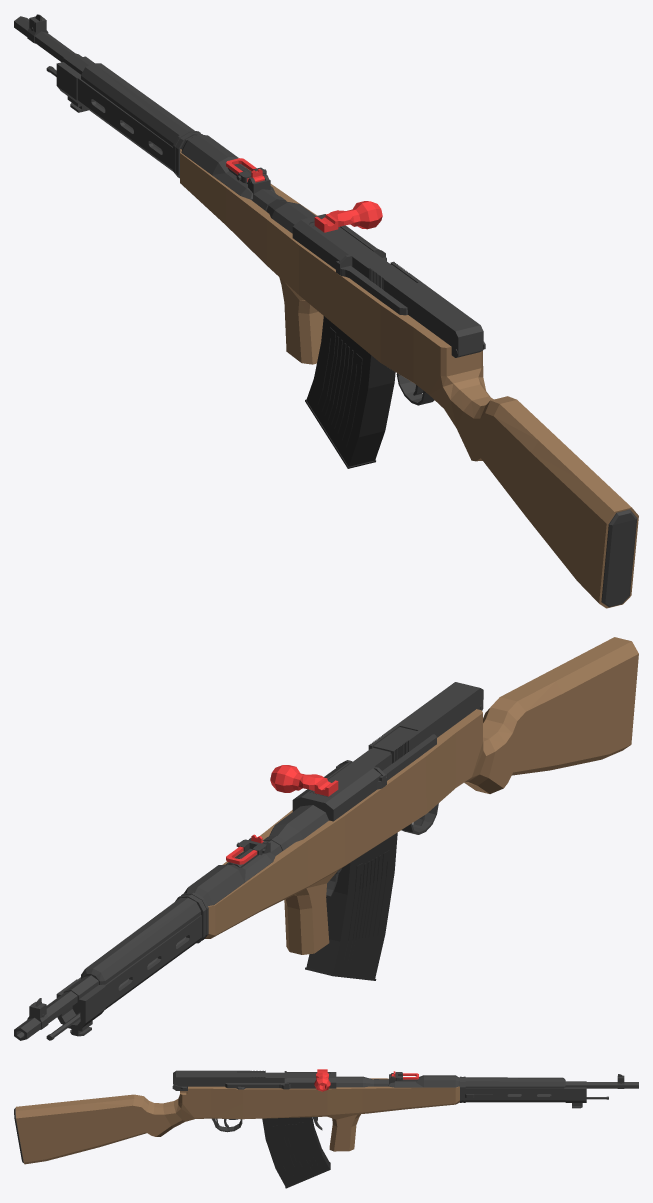
The model's file is fusil_5.glb.
3 views of the same model, one above another, from view 1: azimuth 30°, elevation 25°; view 2: azimuth 150°, elevation 25°; view 3: azimuth 270°, elevation 25° (orthographic). The views are drawn at different scales.
Visible parts, largest first — view 1: p11_accent, p47_mag, p8_paint, p35_paint, p46_paint, p7_paint, p21_paint, p24_del, p20_paint, p25_paint, p5_paint, p34_paint (+1 smaller); view 2: p11_accent, p47_mag, p8_paint, p35_paint, p7_paint, p21_paint, p20_paint, p5_paint, p24_del, p25_paint, p0_paint, p34_paint; view 3: p11_accent, p47_mag, p8_paint, p7_paint, p35_paint, p20_paint, p21_paint, p5_paint, p25_paint, p33_paint, p0_paint, p24_del.
Boxes of the visible parts, left/top/right/bottom form: p11_accent: left=180, top=149, right=638, bottom=608; p47_mag: left=305, top=316, right=395, bottom=468; p8_paint: left=81, top=63, right=275, bottom=200; p35_paint: left=368, top=261, right=483, bottom=357; p46_paint: left=601, top=509, right=637, bottom=607; p7_paint: left=77, top=77, right=172, bottom=171; p21_paint: left=292, top=214, right=375, bottom=269; p24_del: left=314, top=201, right=382, bottom=232; p20_paint: left=252, top=189, right=315, bottom=233; p25_paint: left=313, top=225, right=390, bottom=278; p5_paint: left=56, top=52, right=94, bottom=105; p34_paint: left=340, top=265, right=407, bottom=315; p11_accent: left=205, top=637, right=638, bottom=954; p47_mag: left=305, top=832, right=397, bottom=980; p8_paint: left=81, top=851, right=275, bottom=984; p35_paint: left=368, top=682, right=483, bottom=763; p7_paint: left=78, top=915, right=201, bottom=1009; p21_paint: left=292, top=762, right=381, bottom=821; p20_paint: left=263, top=805, right=328, bottom=855; p5_paint: left=56, top=975, right=105, bottom=1028; p24_del: left=270, top=765, right=338, bottom=796; p25_paint: left=312, top=748, right=391, bottom=796; p0_paint: left=14, top=991, right=77, bottom=1040; p34_paint: left=382, top=734, right=436, bottom=784; p11_accent: left=15, top=1078, right=459, bottom=1164; p47_mag: left=262, top=1117, right=330, bottom=1188; p8_paint: left=388, top=1075, right=565, bottom=1088; p7_paint: left=465, top=1088, right=565, bottom=1102; p35_paint: left=173, top=1070, right=265, bottom=1090; p20_paint: left=336, top=1076, right=389, bottom=1087; p21_paint: left=286, top=1072, right=336, bottom=1088; p5_paint: left=565, top=1081, right=586, bottom=1102; p25_paint: left=264, top=1072, right=316, bottom=1082; p33_paint: left=225, top=1083, right=284, bottom=1089; p0_paint: left=586, top=1082, right=638, bottom=1088; p24_del: left=314, top=1069, right=330, bottom=1091.
Bounding box in the file's own units: 0.0741 × 0.2173 × 1.04.
